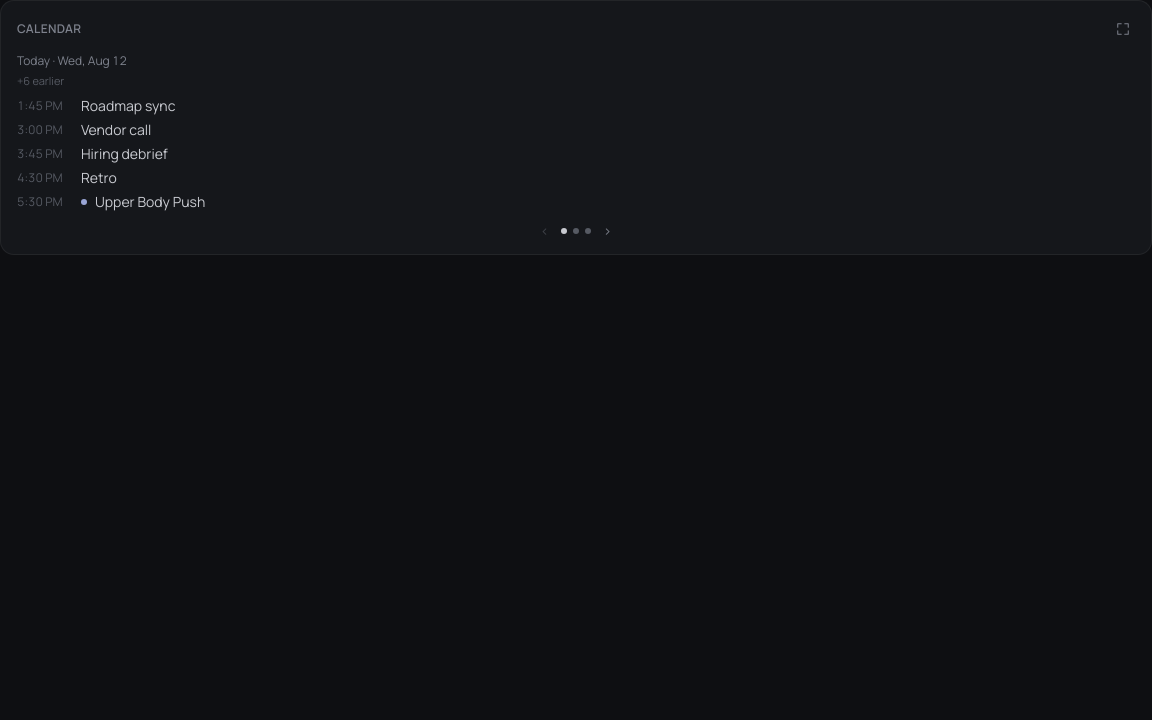
Scenario: CalendarCard › opens the week agenda on the day asked for, closes on Escape, and returns focus
The width and height of the screenshot is (1152, 720).
Expected: the button "+6 earlier" is shown, x1=17 y1=73 x2=64 y2=90
Expected: the text "Overnight build triage" is not shown
Click the button named "Open the week agenda" at (1123, 29), box x1=1111 y1=17 x2=1135 y2=41
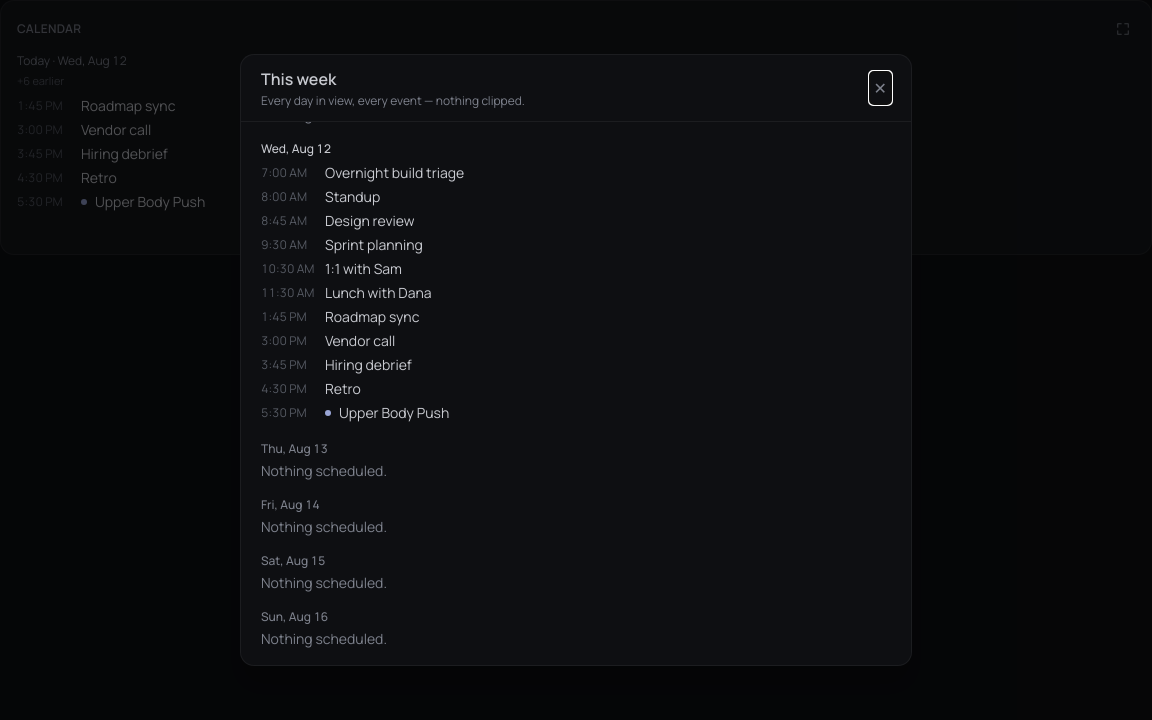
Now the text "Overnight build triage" is shown, box x1=325 y1=163 x2=464 y2=183
Now the text "Roadmap sync" is shown, box x1=325 y1=307 x2=419 y2=327
Press Escape
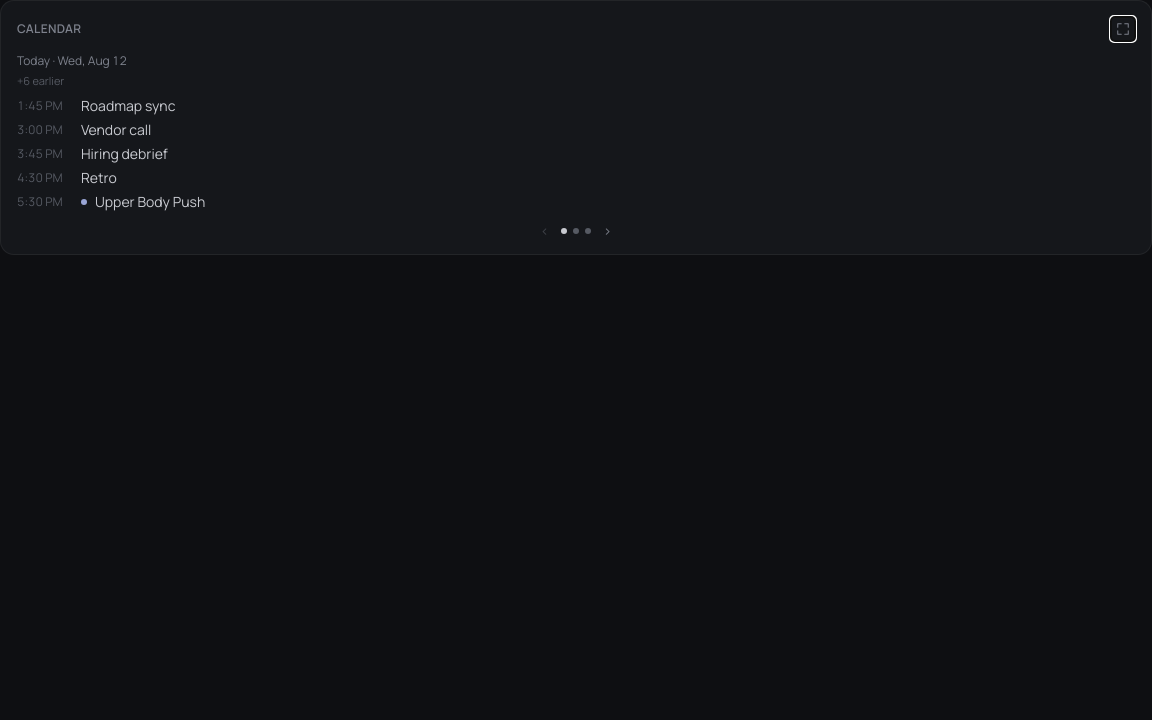
Now the dialog is gone
